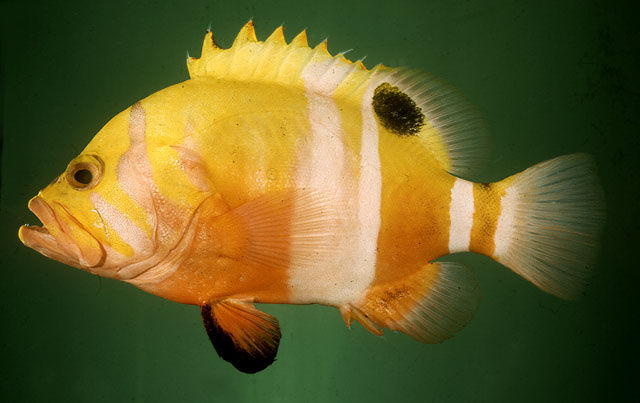fish: (18, 18, 604, 375)
